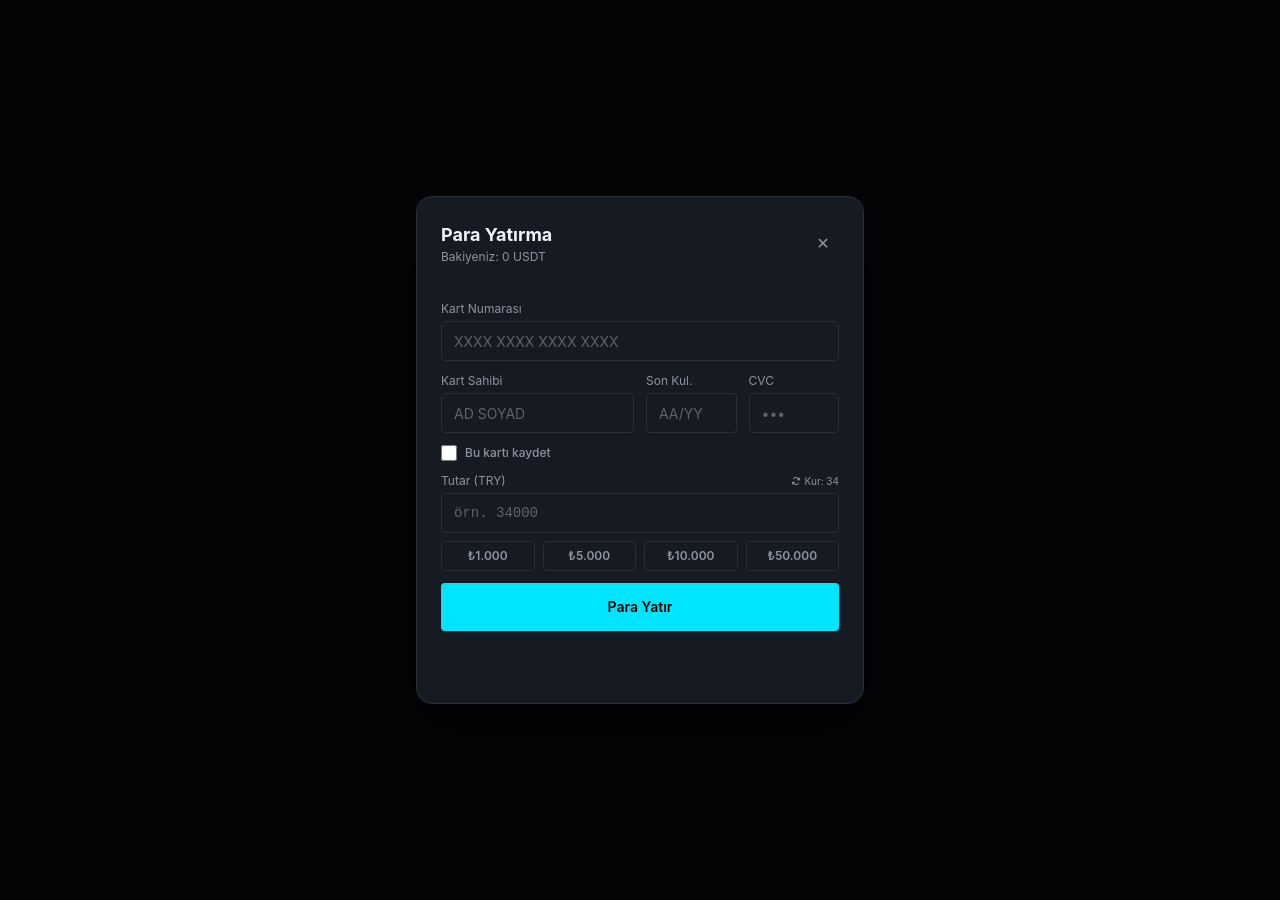
Test: DepositModal › requires card details before submitting
Type "1000" into the field with placeholder "örn. 34000".
click(640, 513); type("1000")  # box [441, 493, 839, 533]
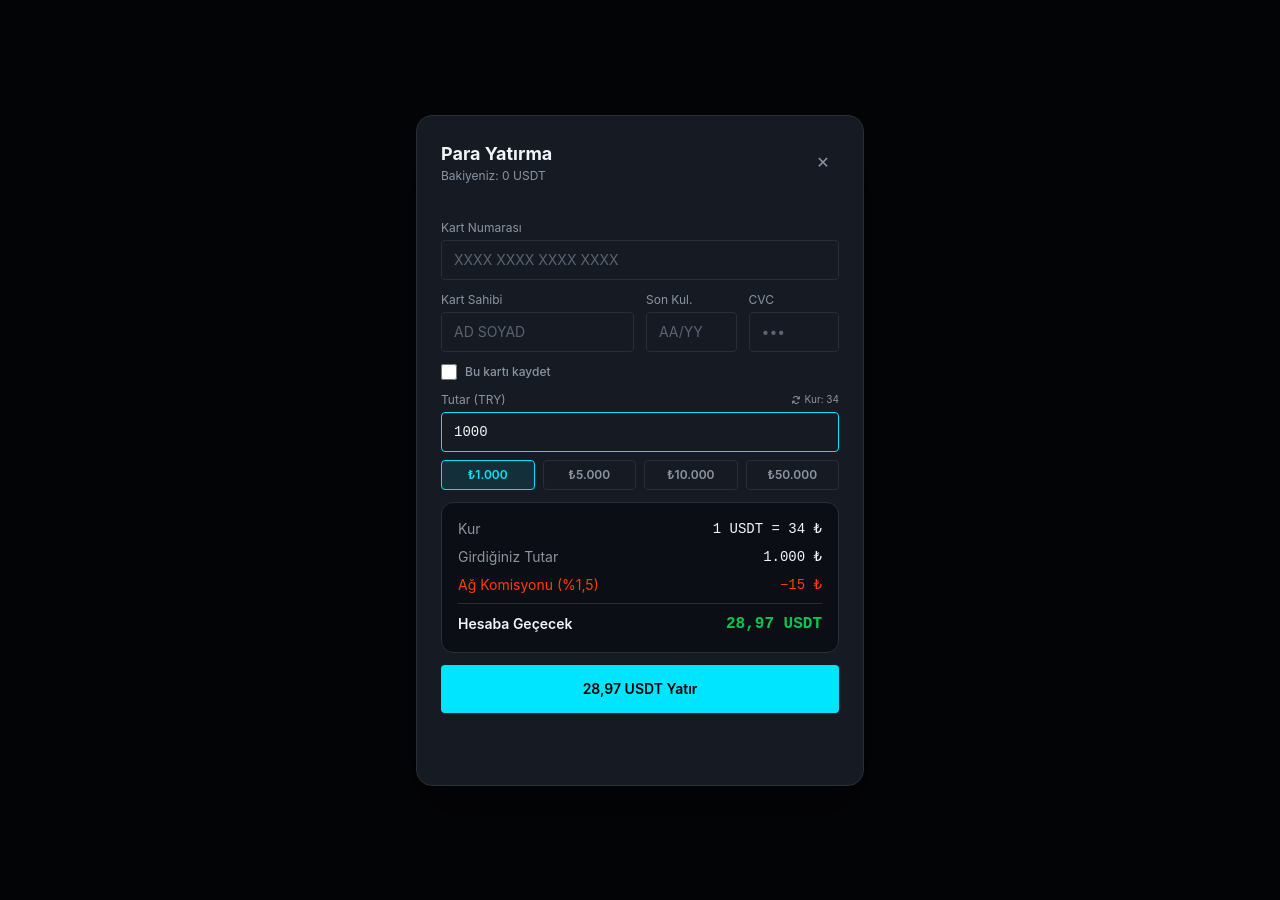
Click the button "28,97 USDT Yatır".
click(640, 688)  # box [441, 664, 839, 712]
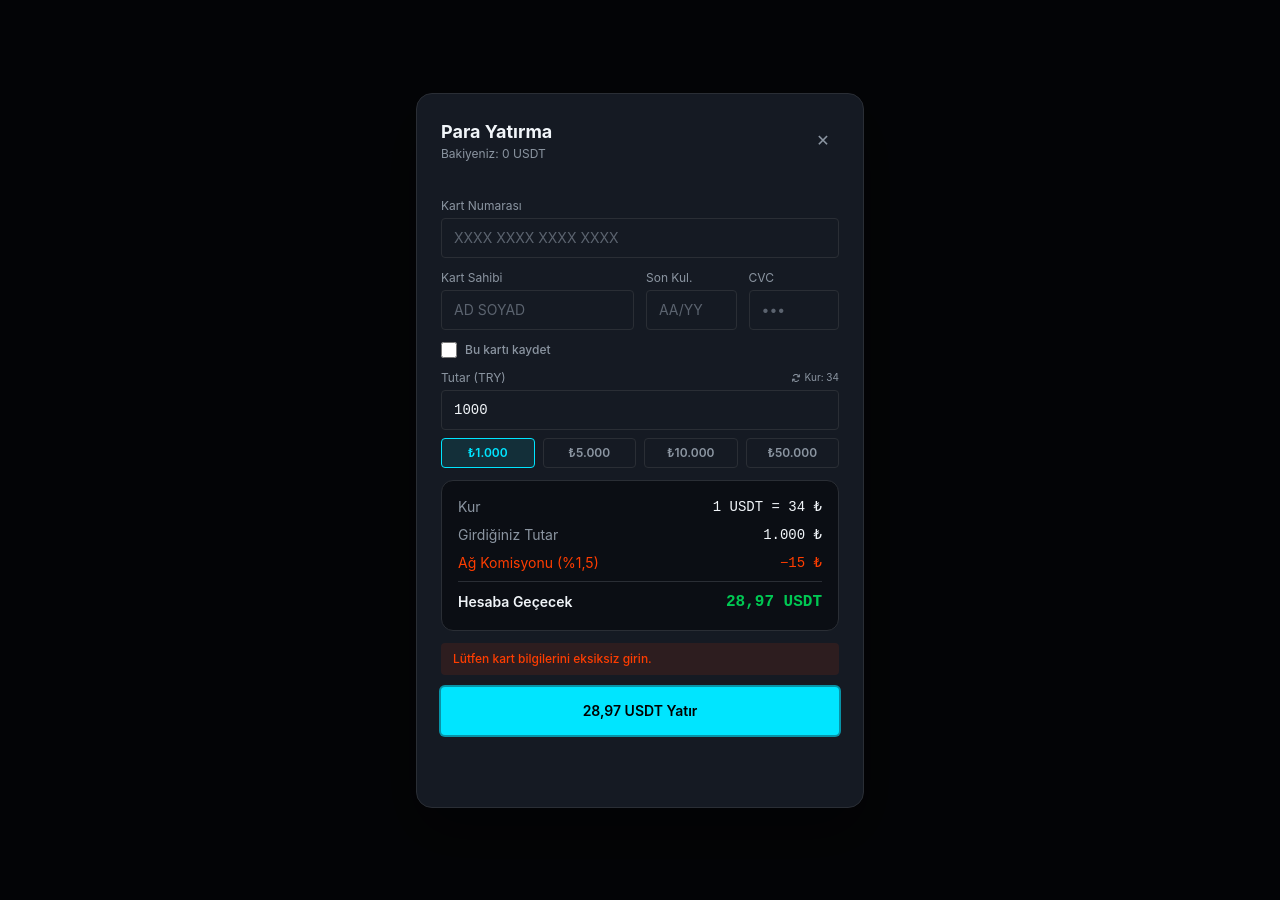
Expected: the text "Lütfen kart bilgilerini eksiksiz girin." is shown, [441, 642, 839, 674]
